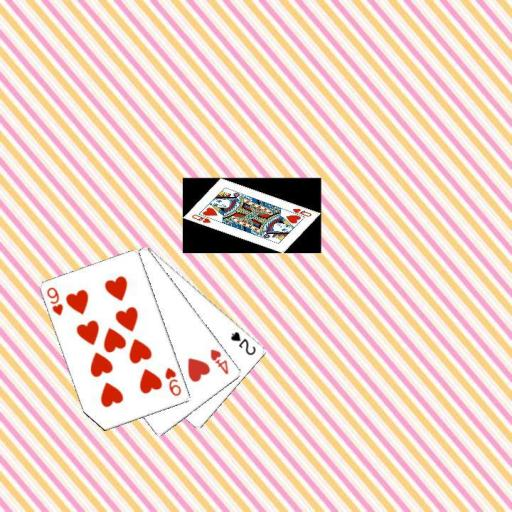2S: (228, 329, 258, 357)
4H: (208, 346, 231, 376)
9H: (162, 364, 183, 398), (44, 284, 65, 317)
